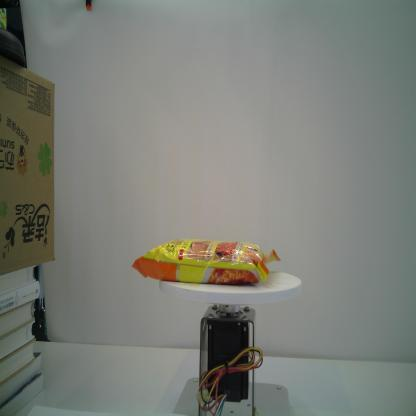Instant Noodles: (131, 238, 281, 285)
